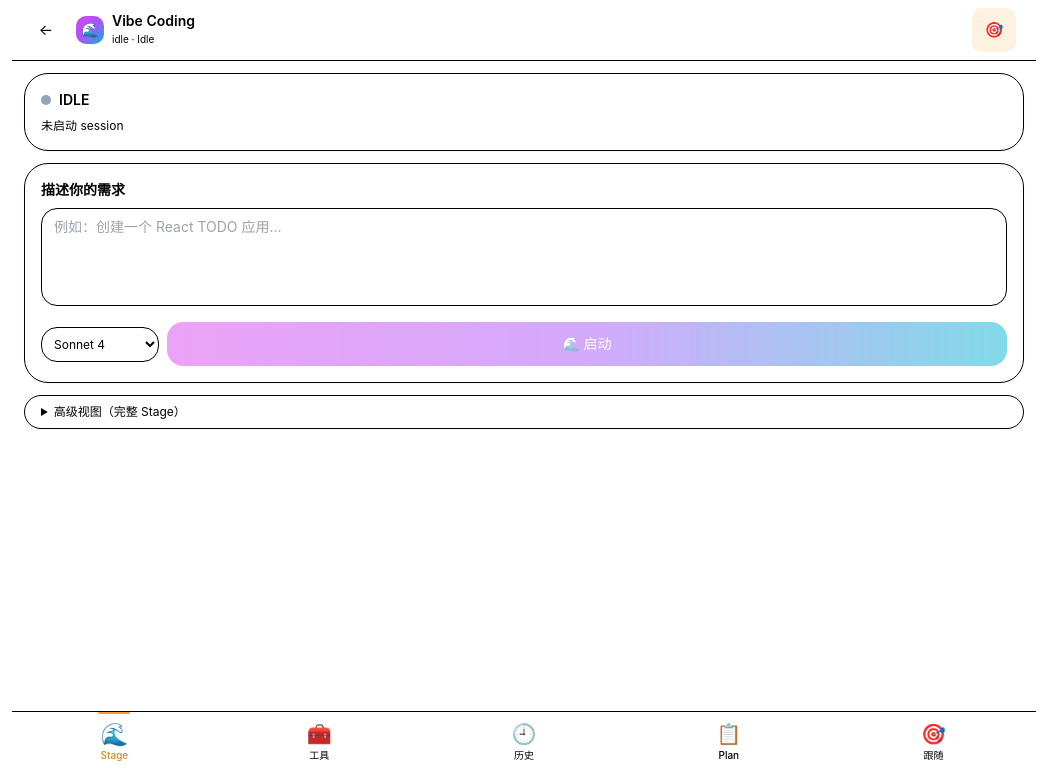
Test case: MobileSoloSheet - Tab 切换 › 点击 Auto-Follow Tab → 切换到 auto-follow
Click the tab with test id "mobile-tab-auto-follow" at (934, 740), box [831,712,1036,767]
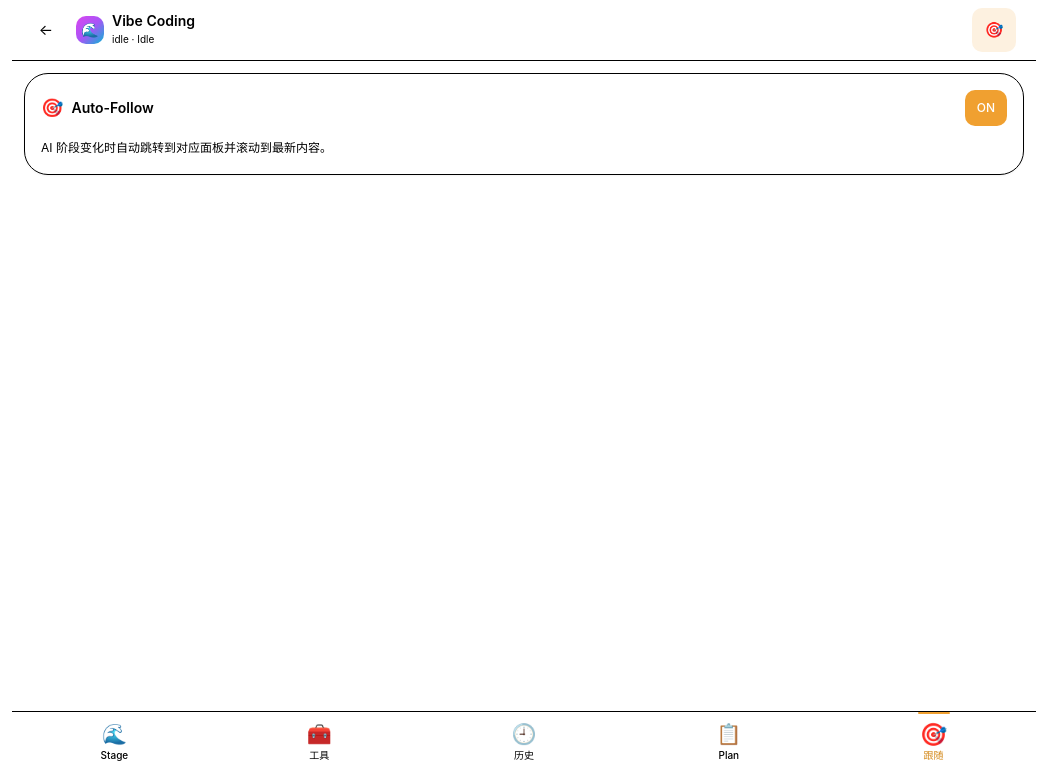
Expected: the element with test id "mobile-autofollow-card" is shown, [24,73,1024,174]
